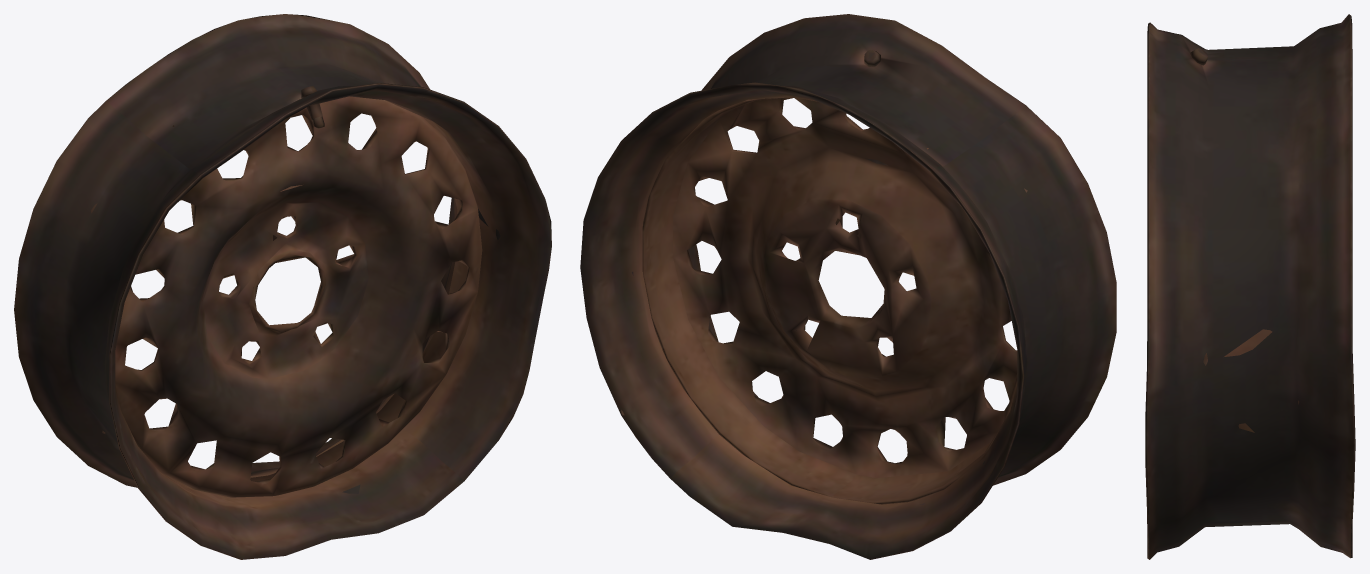
Rendered from wheel_rim.glb.
3 views of the same model, side by side, from view 1: azimuth 30°, elevation 25°; view 2: azimuth 150°, elevation 25°; view 3: azimuth 270°, elevation 25° (orthographic). The views are drawn at different scales.
Parts seen in each view (by area): view 1: rusted_wheel_rim_01; view 2: rusted_wheel_rim_01; view 3: rusted_wheel_rim_01.
Boxes of the visible parts, bbox=[...] form: rusted_wheel_rim_01: bbox=[14, 14, 551, 559]; rusted_wheel_rim_01: bbox=[580, 14, 1116, 559]; rusted_wheel_rim_01: bbox=[1145, 14, 1355, 559].
Bounding box in the file's own units: 0.4016 × 0.3938 × 0.1539.
1 material, 1 textured.
